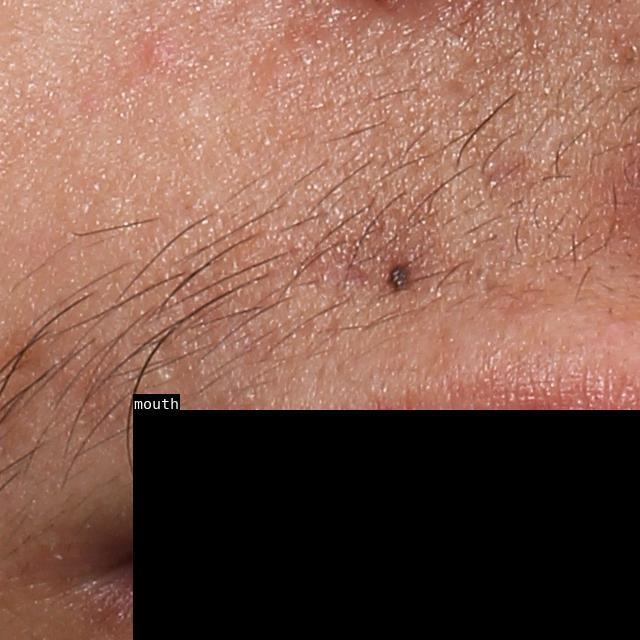nevus: (386, 263, 413, 295)
